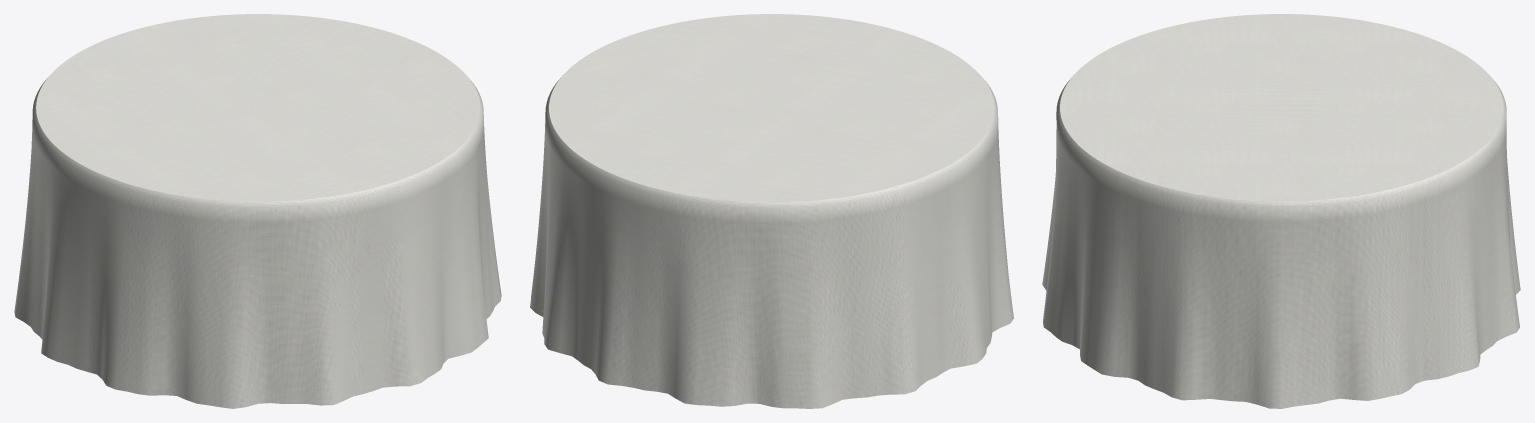
File: table_round_5ft.gltf
3 renders of one model, left to right at view 1: azimuth 30°, elevation 25°; view 2: azimuth 150°, elevation 25°; view 3: azimuth 270°, elevation 25°, orthographic.
Visible parts, largest first — view 1: table_round_5ft; view 2: table_round_5ft; view 3: table_round_5ft.
Boxes of the visible parts, x1,y1,x2,y2 form: table_round_5ft: (14, 14, 501, 408); table_round_5ft: (530, 14, 1013, 408); table_round_5ft: (1042, 14, 1520, 408).
Bounding box in the file's own units: 1.69 × 0.762 × 1.67.
Materials: 1 (1 with a texture image).
